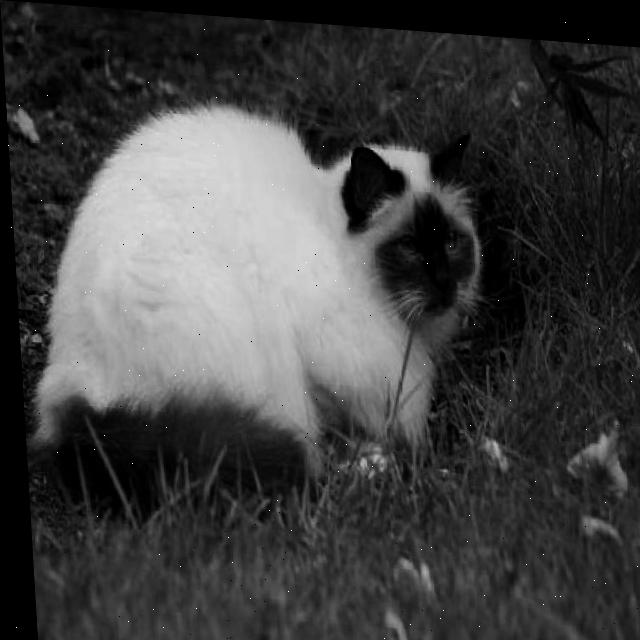Cat: (15, 97, 495, 547)
